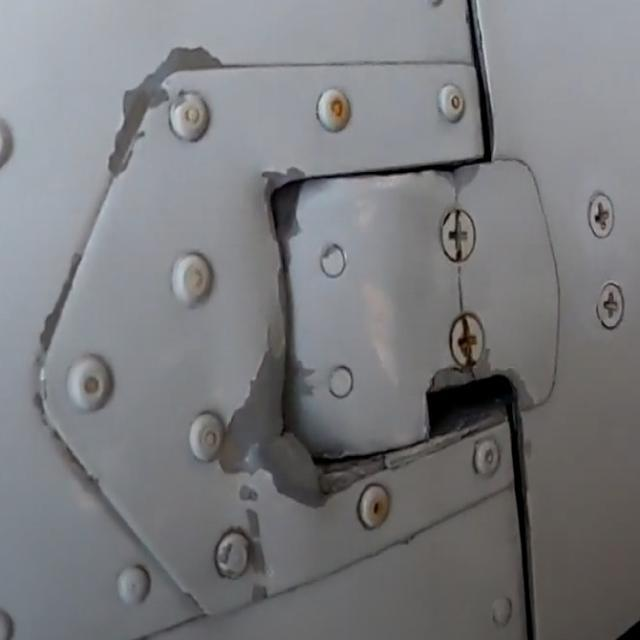crack: (446, 264, 472, 306)
